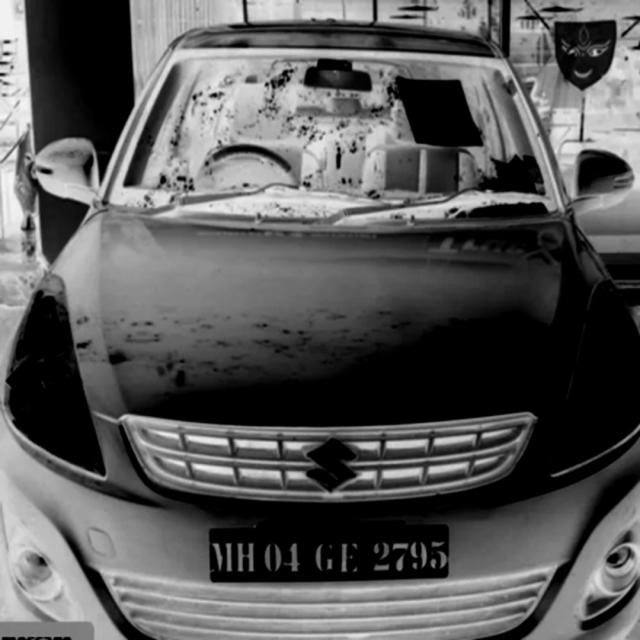Non_registered: (208, 523, 450, 582)
